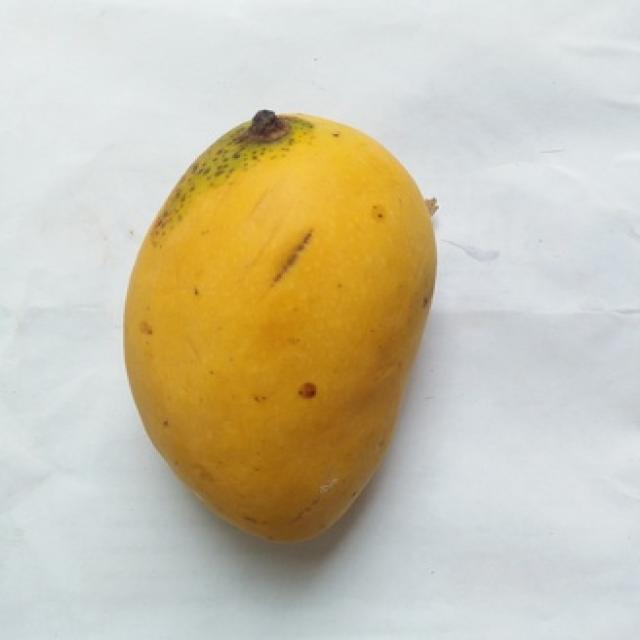Mango: (127, 112, 433, 541)
